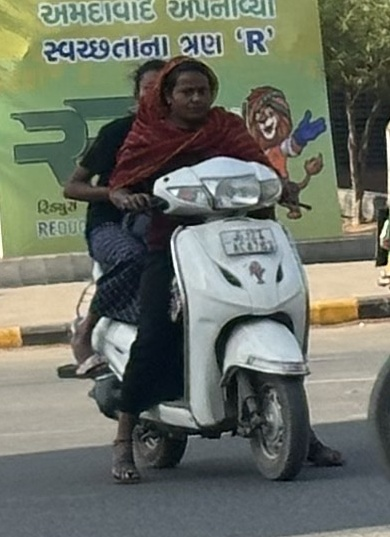BikeWithRider: (48, 46, 353, 488)
NoHelmet: (156, 54, 221, 125), (124, 56, 176, 119)
